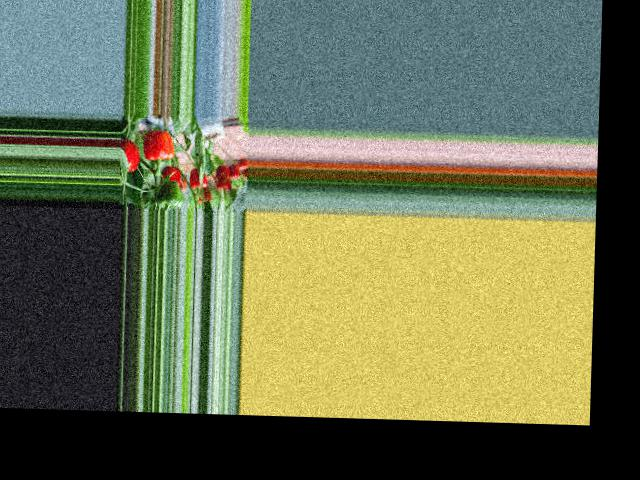bell_pepper: (189, 162, 210, 194)
